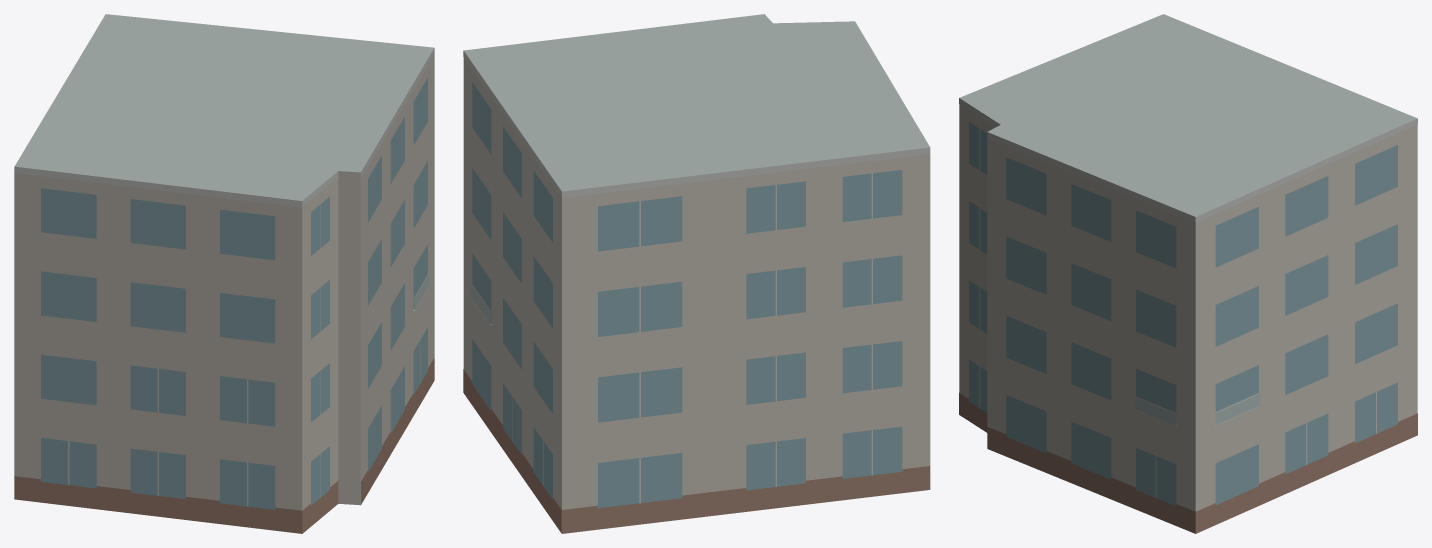
The model's file is survey-upis-32832291.glb.
The picture shows the model from 3 angles, left to right: view 1: azimuth 30°, elevation 25°; view 2: azimuth 150°, elevation 25°; view 3: azimuth 270°, elevation 25°; orthographic projection. The views are drawn at different scales.
Visible parts, largest first — view 1: survey-upis-32832291.tmp; view 2: survey-upis-32832291.tmp; view 3: survey-upis-32832291.tmp.
Boxes of the visible parts, left/top/right/bottom form: survey-upis-32832291.tmp: left=14, top=14, right=434, bottom=533; survey-upis-32832291.tmp: left=463, top=14, right=930, bottom=533; survey-upis-32832291.tmp: left=959, top=14, right=1417, bottom=533.
Size of the model in its own units: 17.46 by 12.7 by 16.67.
